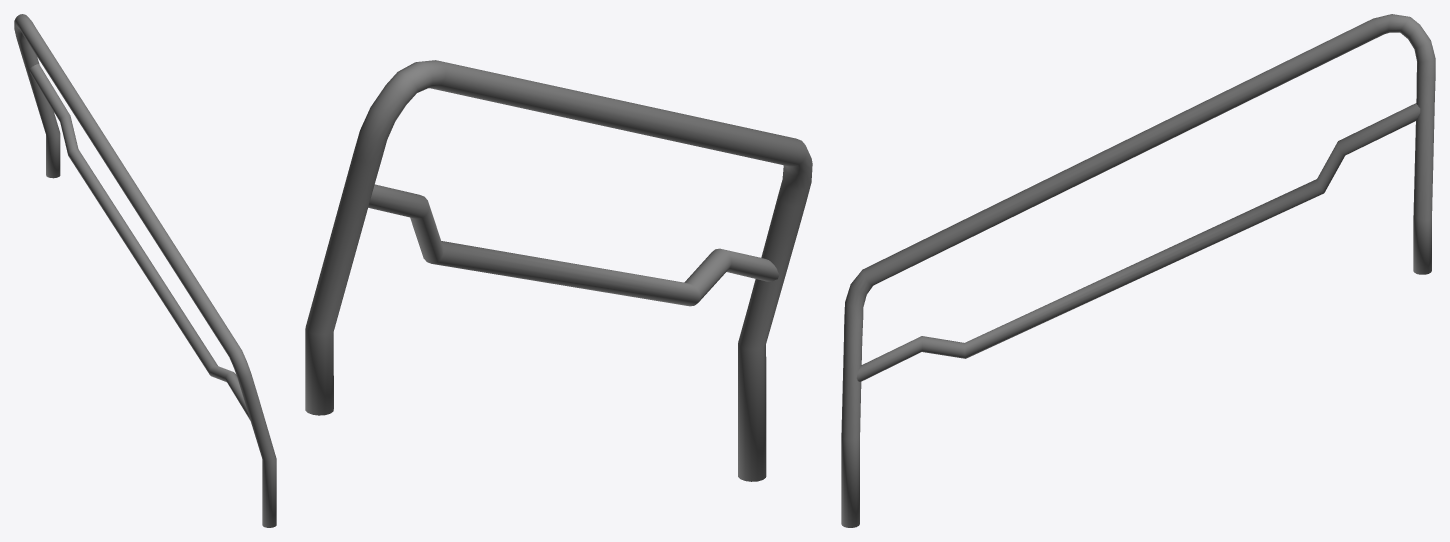
File: q-scifi-mod-prop-rail-incline-short-l.glb
3 views of the same model, side by side, from view 1: azimuth 30°, elevation 25°; view 2: azimuth 150°, elevation 25°; view 3: azimuth 270°, elevation 25° (orthographic). The views are drawn at different scales.
Visible parts, largest first — view 1: Prop_Rail_Incline_Short_L; view 2: Prop_Rail_Incline_Short_L; view 3: Prop_Rail_Incline_Short_L.
Boxes of the visible parts, left/top/right/bottom form: Prop_Rail_Incline_Short_L: left=14, top=14, right=276, bottom=527; Prop_Rail_Incline_Short_L: left=305, top=60, right=812, bottom=481; Prop_Rail_Incline_Short_L: left=841, top=14, right=1435, bottom=527.
Bounding box in the file's own units: 0.2545 × 1.7 × 1.89.
Materials: 1 (1 with a texture image).
